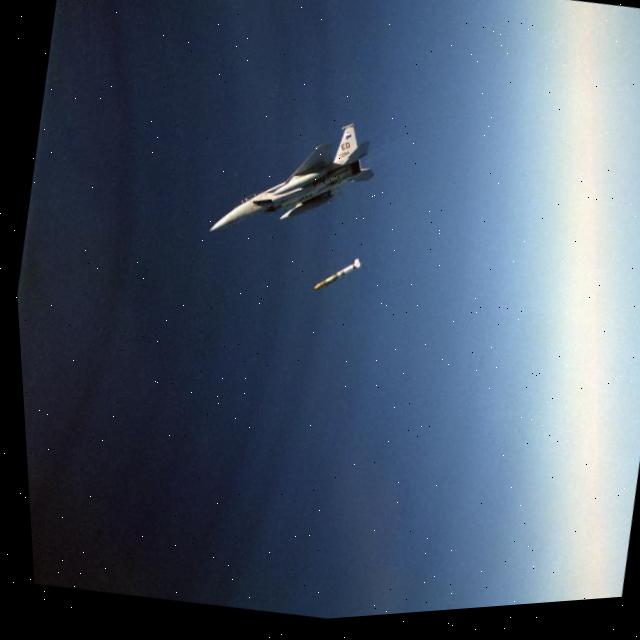missile: (301, 250, 366, 309)
